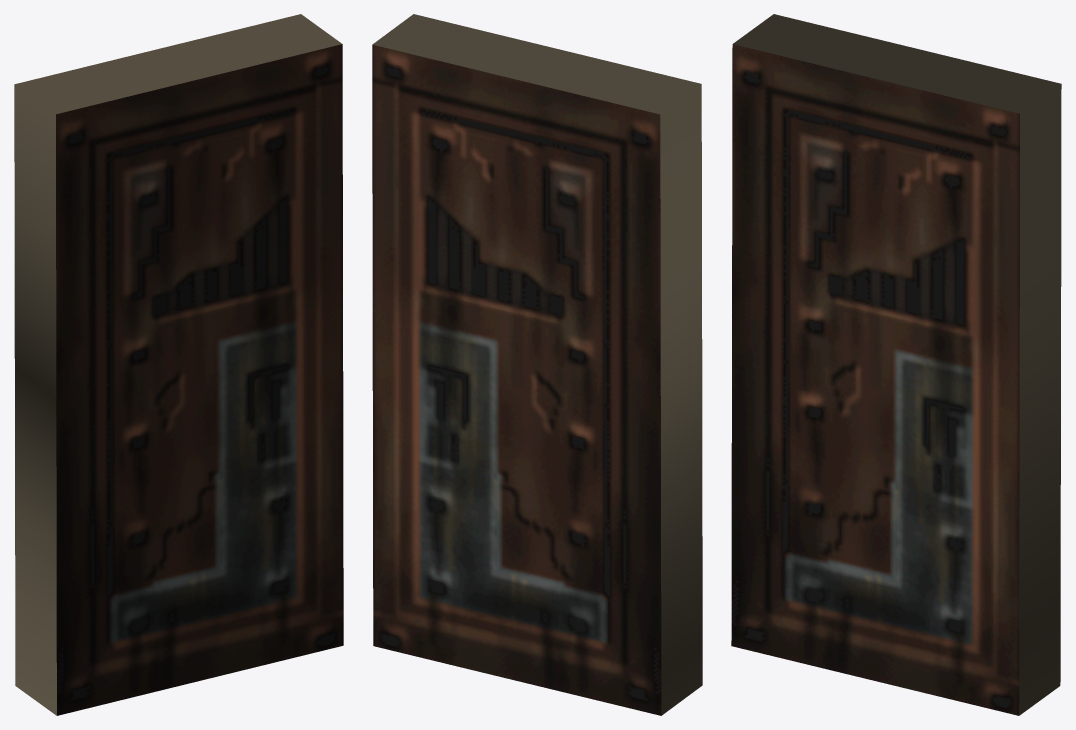
Rendered from bxjb.hrc.gltf.
3 views of the same model, side by side, from view 1: azimuth 30°, elevation 25°; view 2: azimuth 150°, elevation 25°; view 3: azimuth 330°, elevation 25° (orthographic).
Parts seen in each view (by area): view 1: bxjbBone0_null; view 2: bxjbBone0_null; view 3: bxjbBone0_null.
Part boxes in pixels (box(x1,y1,x2,y2)): bxjbBone0_null: box(14, 14, 343, 715); bxjbBone0_null: box(372, 14, 702, 715); bxjbBone0_null: box(731, 14, 1061, 715).
Size of the model in its own units: 22.42 by 44.84 by 5.79.
Materials: 2 (1 with a texture image).
